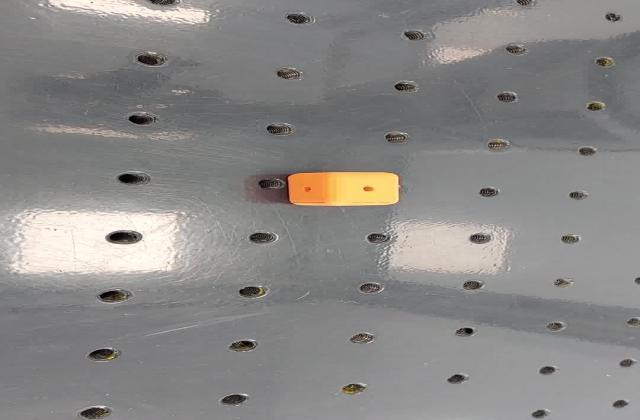cube: (281, 171, 403, 207)
